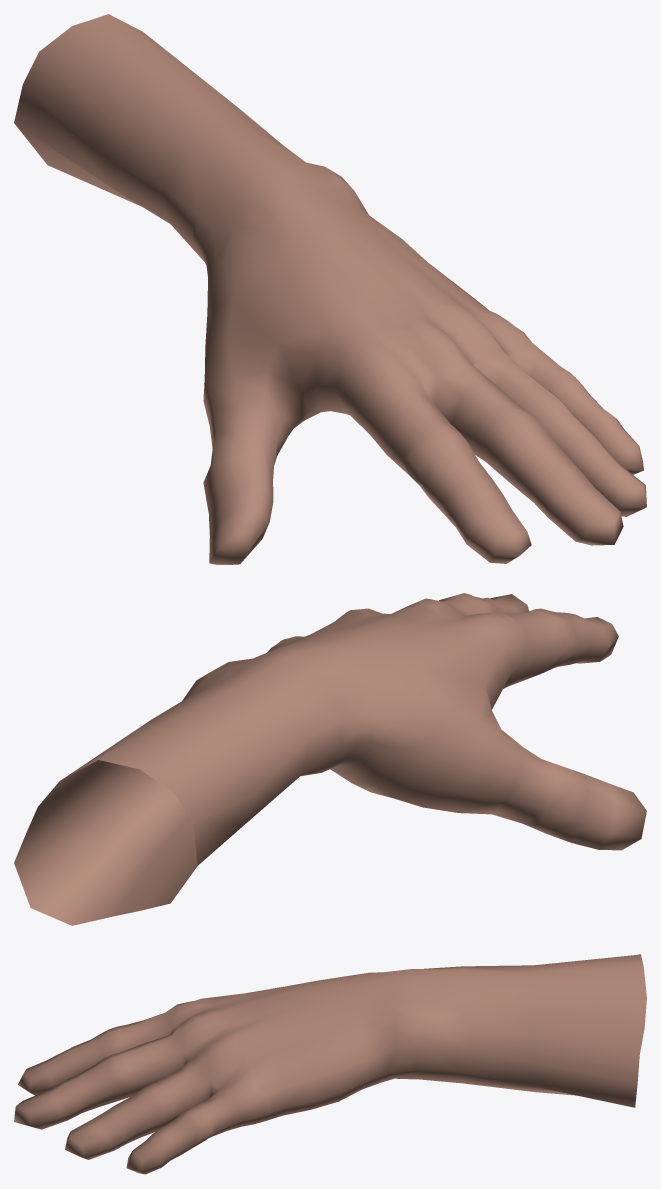
The model's file is 2_2_HandSmoothLeftBack.glb.
3 views of the same model, one above another, from view 1: azimuth 30°, elevation 25°; view 2: azimuth 150°, elevation 25°; view 3: azimuth 270°, elevation 25° (orthographic). The views are drawn at different scales.
Parts seen in each view (by area): view 1: hand_man_polySurface1.001; view 2: hand_man_polySurface1.001; view 3: hand_man_polySurface1.001.
Boxes of the visible parts, box(x1,y1,x2,y2) form: hand_man_polySurface1.001: box(14, 14, 646, 564); hand_man_polySurface1.001: box(14, 593, 646, 925); hand_man_polySurface1.001: box(14, 954, 646, 1174).
Size of the model in its own units: 0.0799 by 0.0535 by 0.1653.
